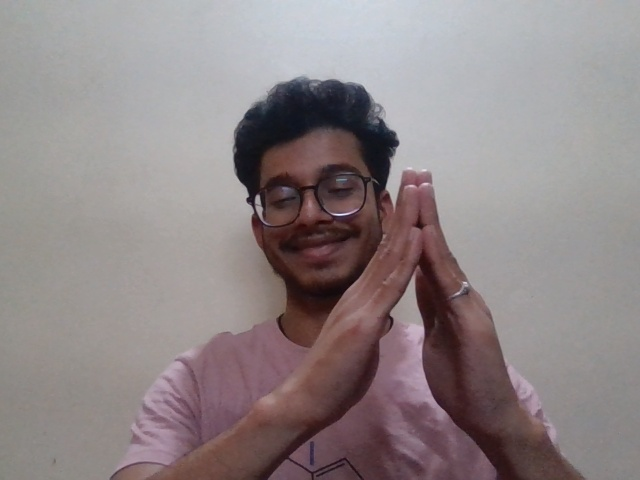home: (322, 167, 531, 434)
